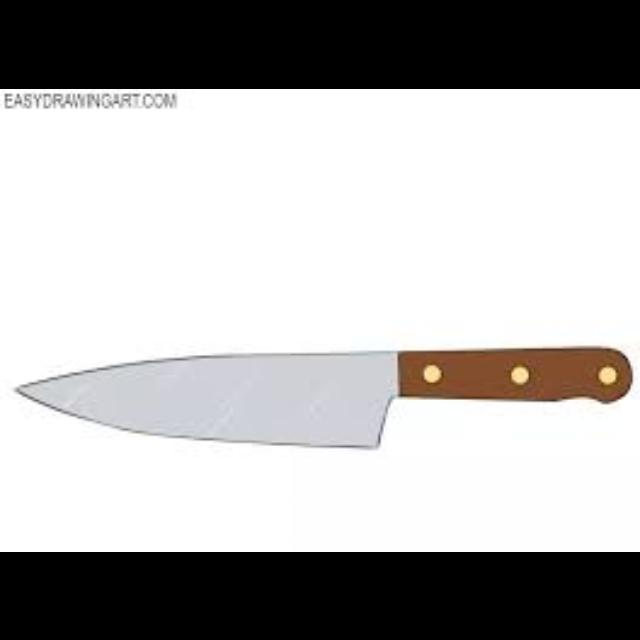knife: (12, 343, 632, 447)
